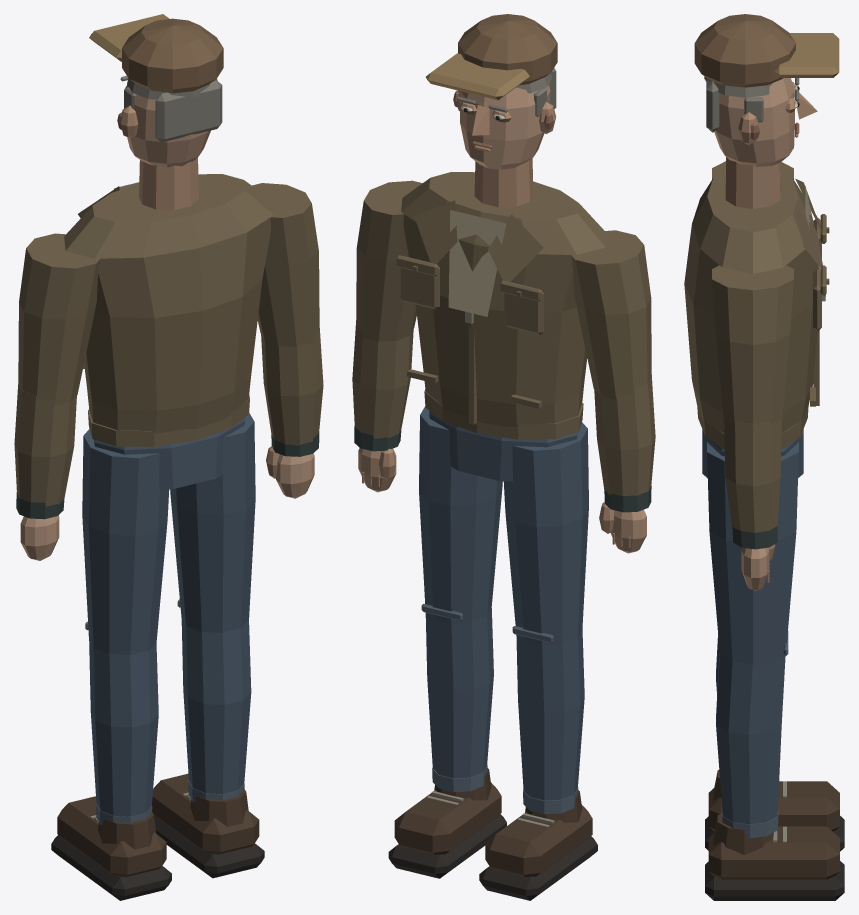
The model's file is resident.glb.
3 views of the same model, side by side, from view 1: azimuth 30°, elevation 25°; view 2: azimuth 150°, elevation 25°; view 3: azimuth 270°, elevation 25° (orthographic).
Parts seen in each view (by area): view 1: resident_visual; view 2: resident_visual; view 3: resident_visual.
Part boxes in pixels (box(x1,y1,x2,y2)): resident_visual: box(14, 14, 323, 900); resident_visual: box(352, 14, 655, 900); resident_visual: box(684, 14, 844, 900).
Bounding box in the file's own units: 0.686 × 1.84 × 0.3155.
